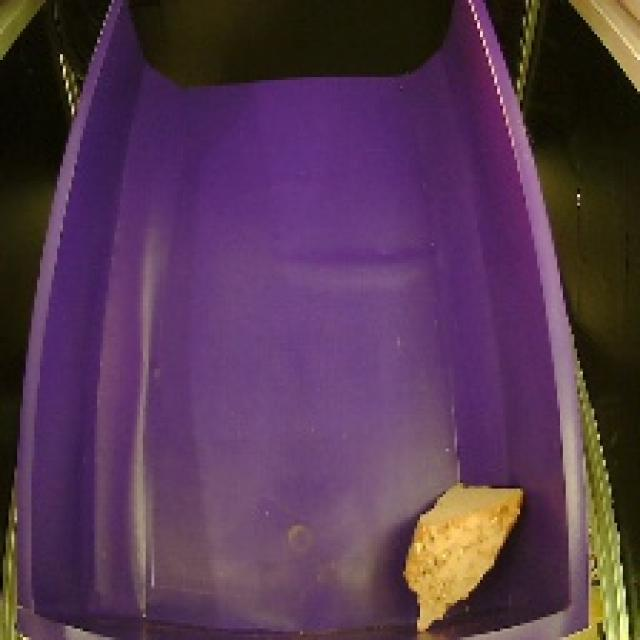brick: (393, 473, 537, 640)
